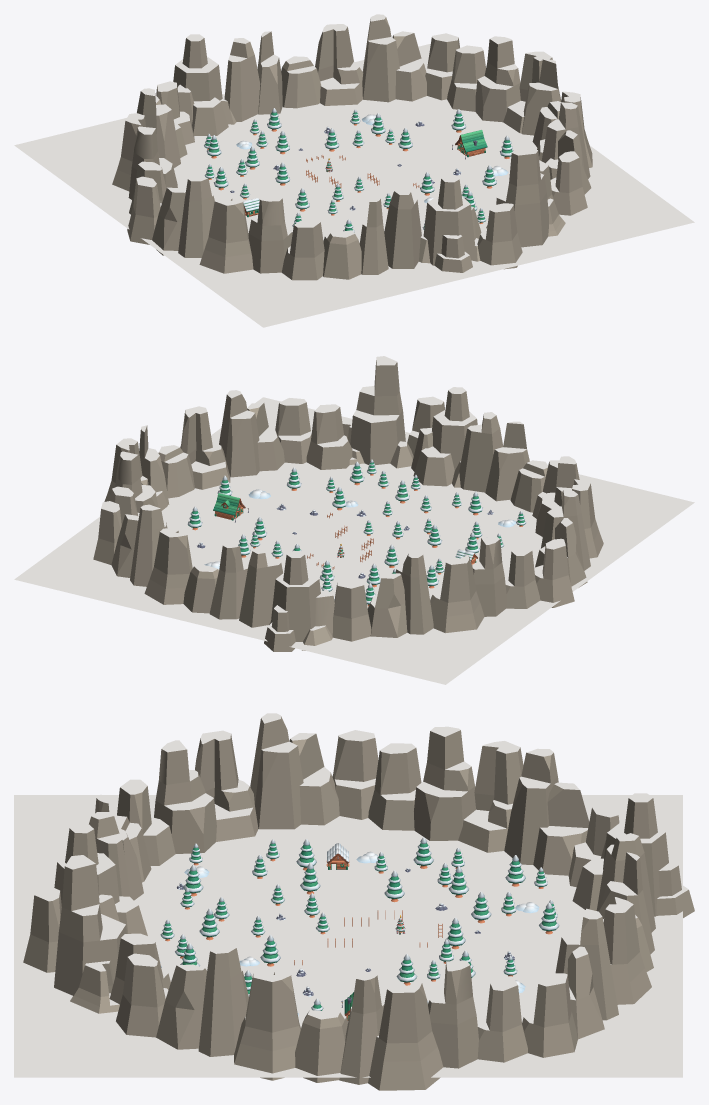
File: decorations.glb
3 renders of one model, top to bottom at view 1: azimuth 30°, elevation 25°; view 2: azimuth 150°, elevation 25°; view 3: azimuth 270°, elevation 25°, orthographic. The views are drawn at different scales.
Visible parts, largest first — view 1: ground_grass, rock_tallB, rock_tallB.001, rock_tallA, rock_tallH.002, rock_tallH, rock_tallG.002, rock_tallI.002, rock_tallG, rock_tallC, rock_tallC.001, rock_tallI (+23 smaller); view 2: ground_grass, rock_tallA, rock_tallB.001, rock_tallB, rock_tallH.001, rock_tallI.003, rock_tallH.002, rock_tallH.004, rock_tallC, rock_tallC.001, rock_tallF.009, rock_tallD (+25 smaller); view 3: ground_grass, rock_tallA, rock_tallH.003, rock_tallB.001, rock_tallH.004, rock_tallG.001, rock_tallI, rock_tallG, rock_tallH.001, rock_tallH, rock_tallI.003, rock_tallG.002 (+24 smaller).
Boxes of the visible parts, box(x1,y1,x2,y2) form: ground_grass: box(14, 43, 694, 327); rock_tallB: box(419, 175, 481, 272); rock_tallB.001: box(173, 34, 236, 135); rock_tallA: box(486, 146, 565, 247); rock_tallH.002: box(315, 24, 363, 105); rock_tallH: box(199, 196, 253, 273); rock_tallG.002: box(475, 36, 520, 122); rock_tallI.002: box(362, 14, 399, 102); rock_tallG: box(248, 194, 292, 273); rock_tallC: box(384, 189, 421, 268); rock_tallC.001: box(224, 38, 260, 121); rock_tallI: box(178, 175, 214, 257); ground_grass: box(14, 397, 694, 684); rock_tallA: box(342, 356, 413, 468); rock_tallB.001: box(264, 551, 334, 651); rock_tallB: box(411, 387, 477, 487); rock_tallH.001: box(430, 555, 484, 633); rock_tallI.003: box(219, 390, 259, 477); rock_tallH.002: box(144, 527, 192, 604); rock_tallH.004: box(180, 406, 230, 489); rock_tallC: box(459, 412, 503, 492); rock_tallC.001: box(239, 546, 282, 627); rock_tallF.009: box(306, 404, 352, 469); rock_tallD: box(485, 421, 529, 501); ground_grass: box(14, 795, 682, 1077); rock_tallA: box(54, 855, 126, 1013); rock_tallH.003: box(368, 982, 443, 1090); rock_tallB.001: box(572, 793, 694, 917); rock_tallH.004: box(234, 969, 301, 1080); rock_tallG.001: box(414, 726, 475, 840); rock_tallI: box(250, 713, 303, 829); rock_tallG: box(154, 740, 216, 853); rock_tallH.001: box(458, 741, 523, 852); rock_tallH: box(195, 730, 258, 841); rock_tallI.003: box(198, 945, 248, 1056); rock_tallG.002: box(428, 961, 478, 1068).
Size of the model in its own units: 166 by 33.25 by 163.
69 materials, 35 textured.
